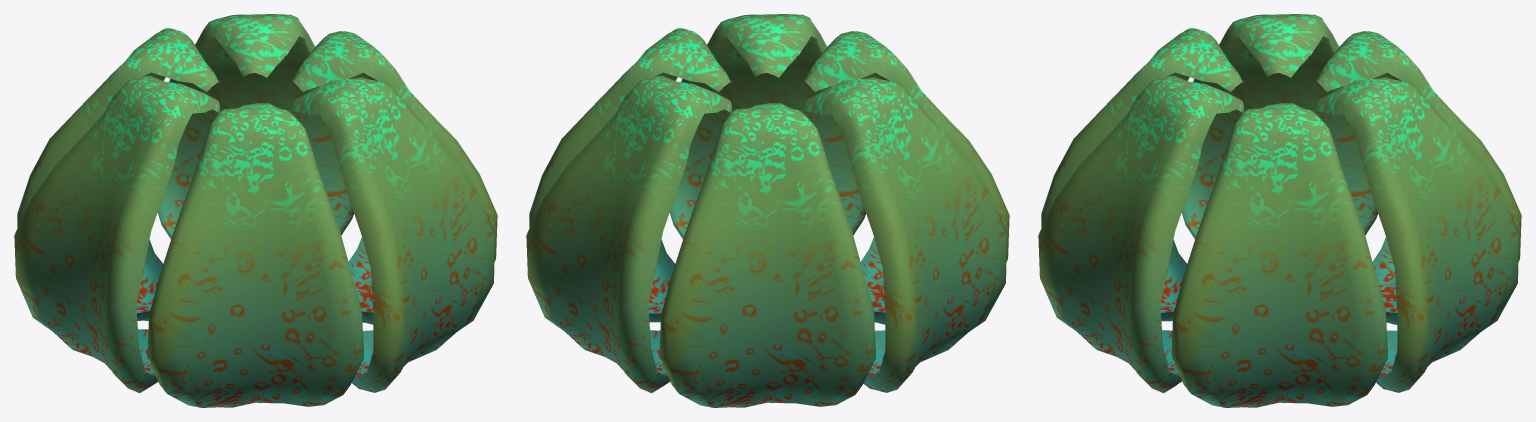
The model's file is AlienHead.FBX.
3 views of the same model, side by side, from view 1: azimuth 30°, elevation 25°; view 2: azimuth 150°, elevation 25°; view 3: azimuth 270°, elevation 25° (orthographic).
Visible parts, largest first — view 1: Object001; view 2: Object001; view 3: Object001.
Part boxes in pixels (x1,y1,x2,y2): Object001: [14, 14, 497, 407]; Object001: [526, 14, 1009, 407]; Object001: [1038, 14, 1521, 407].
Size of the model in its own units: 12.99 by 9.07 by 14.19.
